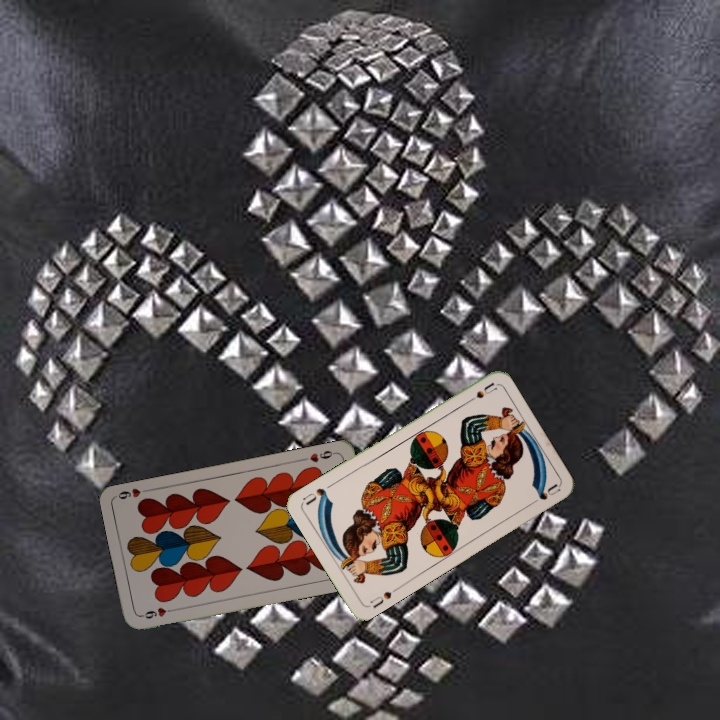H9: (298, 446, 338, 465), (137, 603, 177, 622)
SU: (461, 378, 499, 407), (366, 583, 401, 611)
